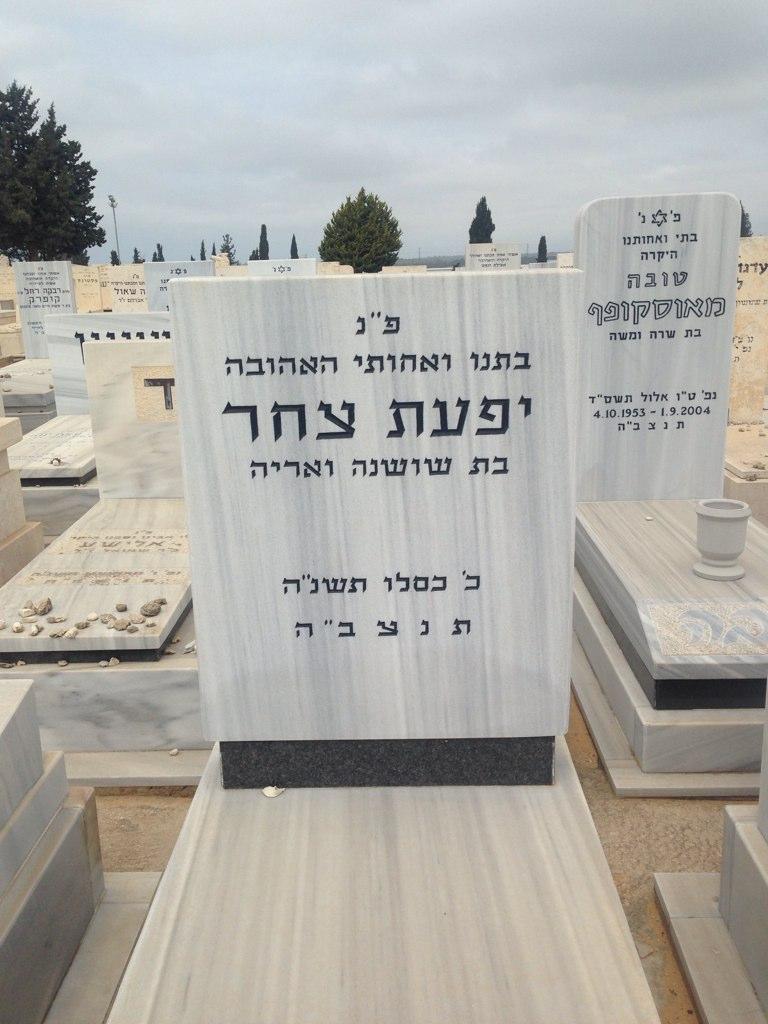vault: (93, 270, 666, 1024)
